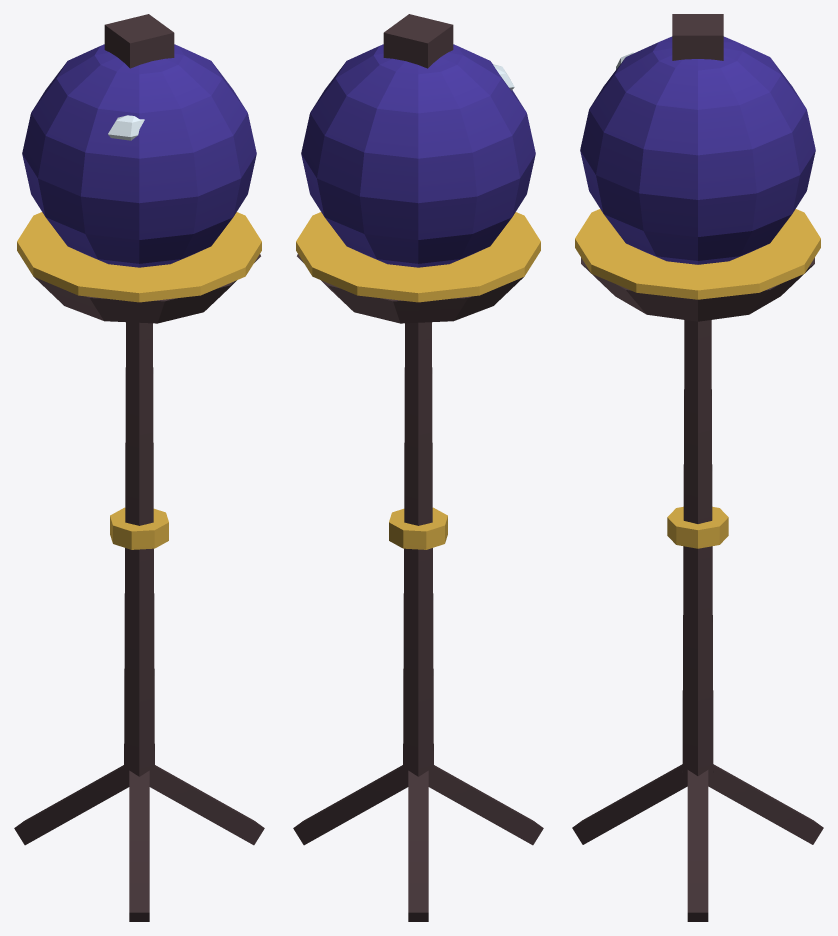
The model's file is orb_post_standing_violet.glb.
3 views of the same model, side by side, from view 1: azimuth 30°, elevation 25°; view 2: azimuth 150°, elevation 25°; view 3: azimuth 270°, elevation 25° (orthographic).
Visible parts, largest first — view 1: orb_post_standing_violet; view 2: orb_post_standing_violet; view 3: orb_post_standing_violet.
Part boxes in pixels (x1,y1,x2,y2): orb_post_standing_violet: (14,14,264,921); orb_post_standing_violet: (293,14,543,921); orb_post_standing_violet: (572,14,823,921).
Bounding box in the file's own units: 0.5122 × 1.82 × 0.4915.
